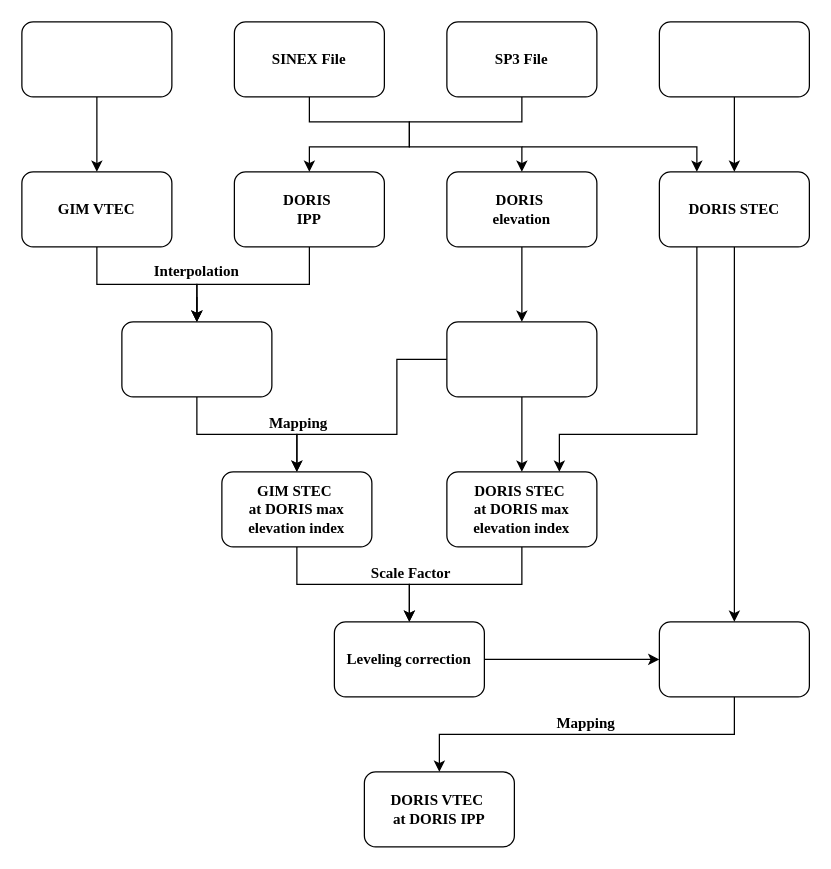
Image size: 831x869. Some labels were removed from this diagram. Here are the shapes that lost their labels. From the top down, the centre of each, then its label:
(96,59): IONEX File
(733,59): RINEX File
(196,359): GIM VTEC at DORIS IPP
(521,359): DORIS max elevation index
(733,659): Corrected DORIS STEC
